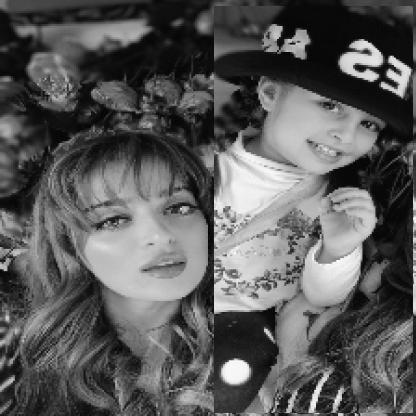child: (215, 7, 415, 415)
